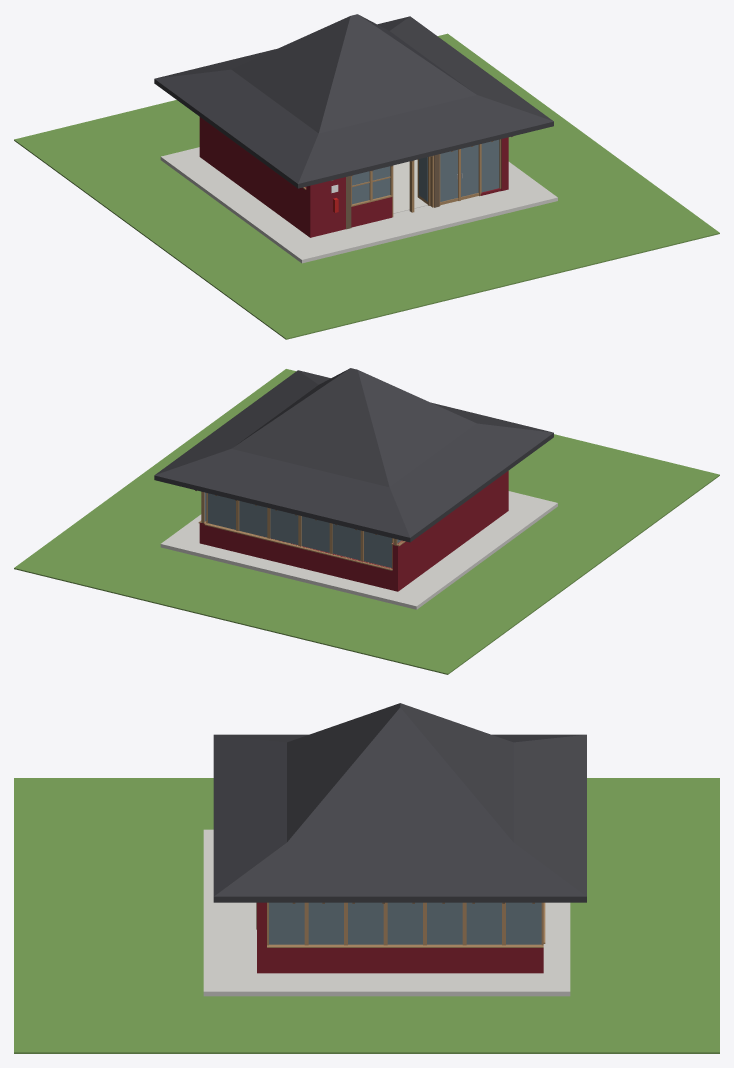
Rendered from sala_posgrado.glb.
3 views of the same model, one above another, from view 1: azimuth 30°, elevation 25°; view 2: azimuth 150°, elevation 25°; view 3: azimuth 270°, elevation 25° (orthographic). The views are drawn at different scales.
Parts seen in each view (by area): view 1: Sala de posgrado; view 2: Sala de posgrado; view 3: Sala de posgrado.
Part boxes in pixels (x1,y1,x2,y2): Sala de posgrado: (14,14,719,339); Sala de posgrado: (14,368,719,674); Sala de posgrado: (14,703,719,1053).
Size of the model in its own units: 19.52 by 7.01 by 21.21.
